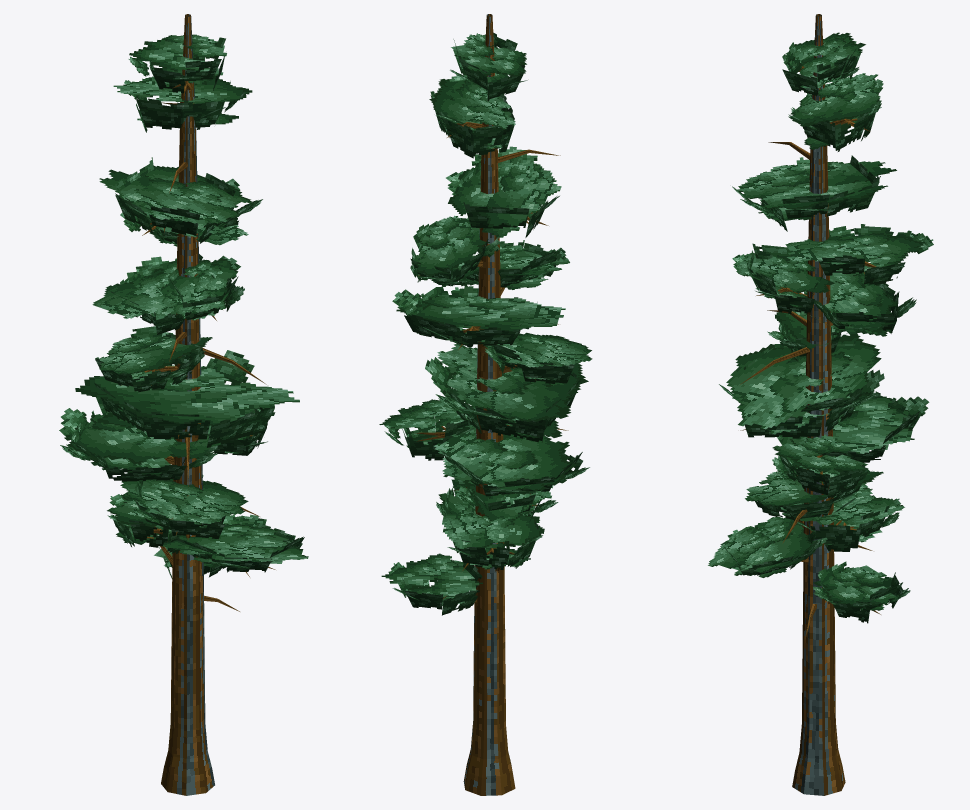
The model's file is rct2.scenery_small.tcrp.glb.
3 renders of one model, left to right at view 1: azimuth 30°, elevation 25°; view 2: azimuth 150°, elevation 25°; view 3: azimuth 270°, elevation 25°, orthographic.
Visible parts, largest first — view 1: rct2.scenery_small.tcrp; view 2: rct2.scenery_small.tcrp; view 3: rct2.scenery_small.tcrp.
Boxes of the visible parts, x1=… form: rct2.scenery_small.tcrp: x1=59, y1=14, x2=308, y2=795; rct2.scenery_small.tcrp: x1=379, y1=14, x2=592, y2=795; rct2.scenery_small.tcrp: x1=708, y1=14, x2=933, y2=795.
Size of the model in its own units: 1.49 by 4.28 by 1.42.
Materials: 1 (1 with a texture image).
